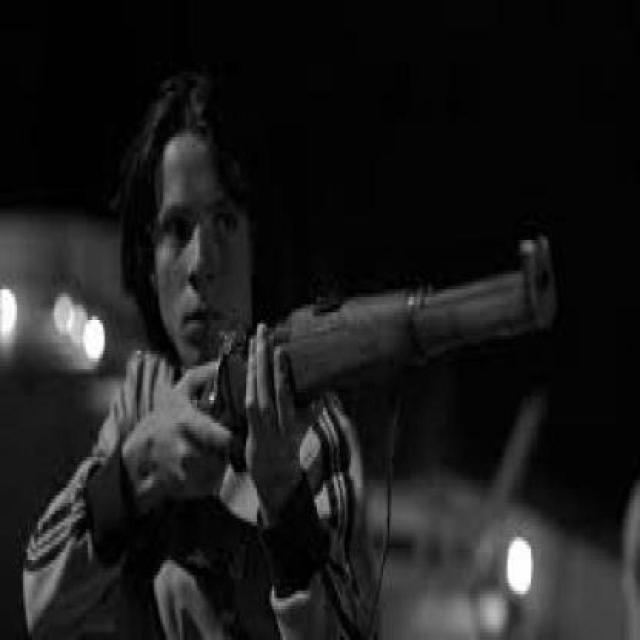weapon: (163, 237, 560, 449)
